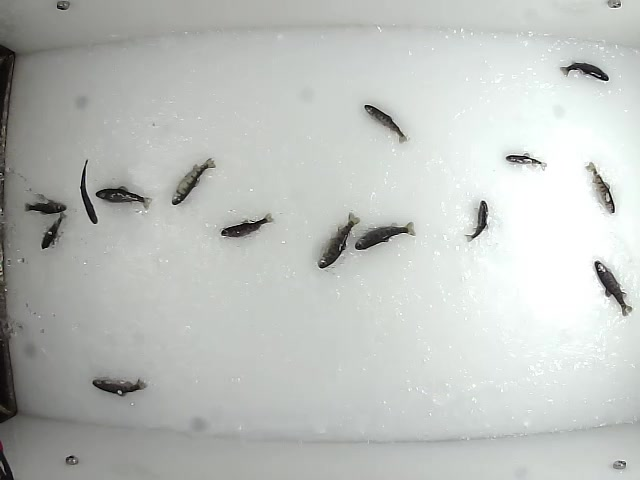fish: (315, 211, 362, 271), (168, 156, 218, 207), (592, 259, 634, 318), (352, 219, 417, 253), (361, 104, 411, 144), (216, 210, 277, 241), (584, 160, 617, 217), (93, 185, 154, 211), (79, 158, 100, 225), (557, 59, 610, 84), (89, 375, 149, 397), (38, 210, 69, 251), (462, 199, 489, 244), (22, 198, 68, 216), (503, 150, 545, 168)
